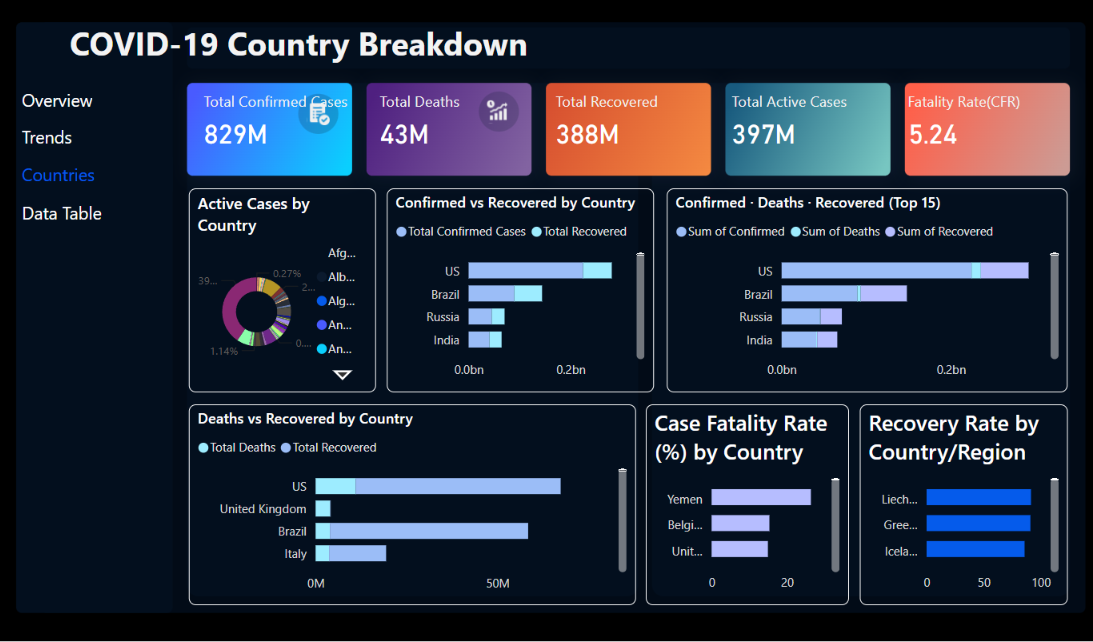

The dashboard page shown, as its layout file describes it:
{"tool":"powerbi","page":{"name":"Countries","canvas":[1920,1080],"ordinal":2},"visuals":[{"type":"cardVisual","fields":{"Data":["full_grouped.Total Confirmed Cases","full_grouped.Total Deaths","full_grouped.Total Recovered","full_grouped.Total Active Cases","full_grouped.Fatality Rate(CFR)"]},"box":[330,126,1540,163],"z":0},{"type":"donutChart","title":"Active Cases by Country","fields":{"Category":["full_grouped.Country/Region"],"Y":["full_grouped.Total Active Cases"]},"box":[333.1,320.6,326.2,340.6],"z":1000},{"type":"barChart","title":"Confirmed vs Recovered by Country","fields":{"Category":["full_grouped.Country/Region"],"Y":["full_grouped.Total Confirmed Cases","full_grouped.Total Recovered"]},"box":[678.5,320.6,465.7,340.6],"z":2000},{"type":"barChart","title":"Confirmed · Deaths · Recovered (Top 15)","fields":{"Category":["full_grouped.Country/Region"],"Y":["Sum(full_grouped.Confirmed)","Sum(full_grouped.Deaths)","Sum(full_grouped.Recovered)"]},"box":[1166.9,320.6,699.4,340.6],"z":3000},{"type":"barChart","title":"Deaths vs Recovered by Country","fields":{"Category":["full_grouped.Country/Region"],"Y":["full_grouped.Total Deaths","full_grouped.Total Recovered"]},"box":[333.1,681.3,779.7,335.6],"z":4000},{"type":"clusteredBarChart","title":"Case Fatality Rate (%) by Country","fields":{"Category":["full_grouped.Country/Region"],"Y":["full_grouped.Fatality Rate(CFR)"]},"box":[1130.2,681.3,354.1,335.6],"z":5000},{"type":"clusteredBarChart","fields":{"Category":["full_grouped.Country/Region"],"Y":["full_grouped.Recovery Rate"]},"box":[1503.5,681.3,362.8,335.6],"z":6000},{"type":"image","box":[50.3,35.4,66.6,70.7],"z":7000},{"type":"actionButton","box":[35,143,270,58],"z":8000},{"type":"actionButton","box":[35,206,270,58],"z":9000},{"type":"actionButton","box":[35,269,270,58],"z":10000},{"type":"actionButton","box":[35,332,270,58],"z":11000},{"type":"textbox","box":[340,33,1520,55],"z":12000}]}

Visuals, with their boxes on the page's 1920x1080 design canvas (x1, y1, x2, y2). These are canvas units, not pixel positions in the 1093x642 screenshot, which may show the page scaled, cropped or inside an application window:
cardVisual - full_grouped.Total Confirmed Cases x full_grouped.Total Deaths: bbox=(330, 126, 1870, 289)
"Active Cases by Country" donutChart: bbox=(333, 321, 659, 661)
"Confirmed vs Recovered by Country" barChart: bbox=(678, 321, 1144, 661)
"Confirmed · Deaths · Recovered (Top 15)" barChart: bbox=(1167, 321, 1866, 661)
"Deaths vs Recovered by Country" barChart: bbox=(333, 681, 1113, 1017)
"Case Fatality Rate (%) by Country" clusteredBarChart: bbox=(1130, 681, 1484, 1017)
clusteredBarChart - full_grouped.Country/Region x full_grouped.Recovery Rate: bbox=(1504, 681, 1866, 1017)
image: bbox=(50, 35, 117, 106)
actionButton: bbox=(35, 143, 305, 201)
actionButton: bbox=(35, 206, 305, 264)
actionButton: bbox=(35, 269, 305, 327)
actionButton: bbox=(35, 332, 305, 390)
textbox: bbox=(340, 33, 1860, 88)
